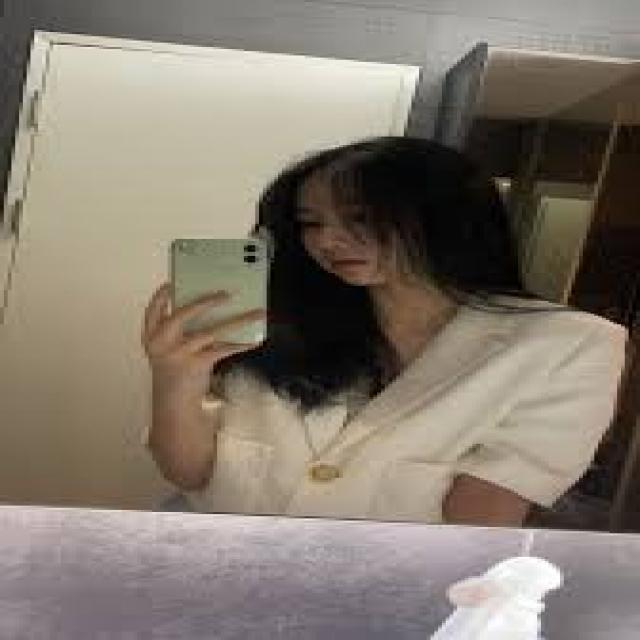Phone: (168, 234, 271, 352)
